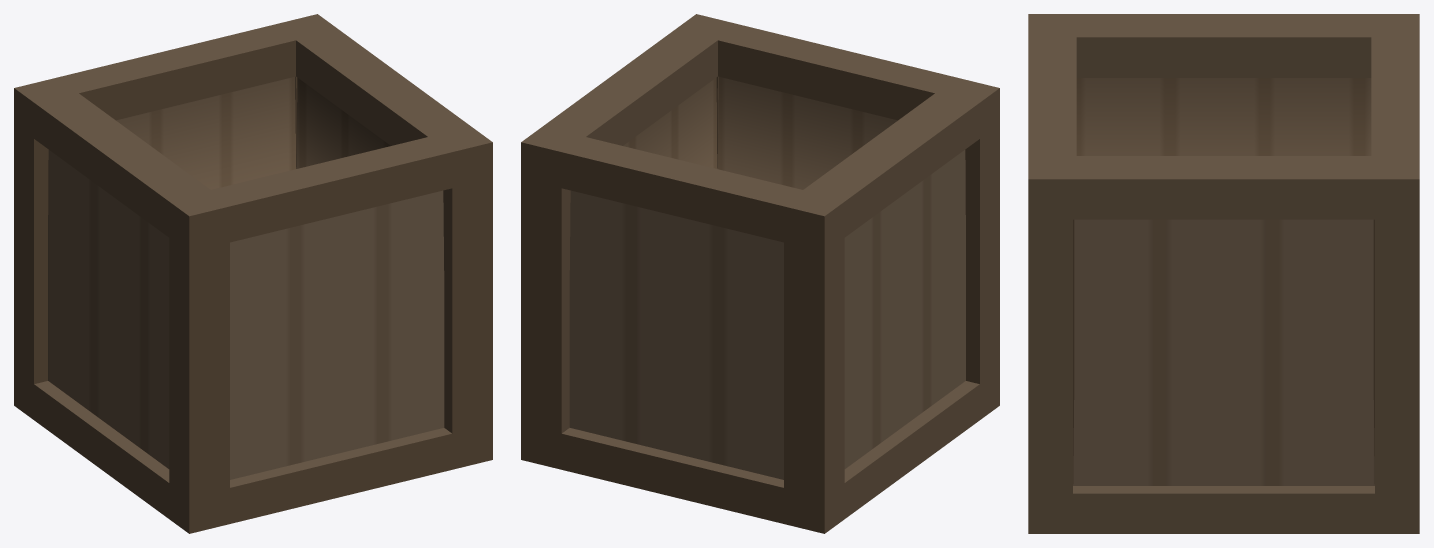
File: SD_Prop_Crate_02.fbx
3 views of the same model, side by side, from view 1: azimuth 30°, elevation 25°; view 2: azimuth 150°, elevation 25°; view 3: azimuth 270°, elevation 25° (orthographic). The views are drawn at different scales.
Parts seen in each view (by area): view 1: SD_Prop_Crate_02; view 2: SD_Prop_Crate_02; view 3: SD_Prop_Crate_02.
Boxes of the visible parts, box(x1,y1,x2,y2) form: SD_Prop_Crate_02: box(14, 14, 492, 533); SD_Prop_Crate_02: box(521, 14, 999, 533); SD_Prop_Crate_02: box(1028, 14, 1419, 533).
Size of the model in its own units: 1.1 by 1.1 by 1.1.
